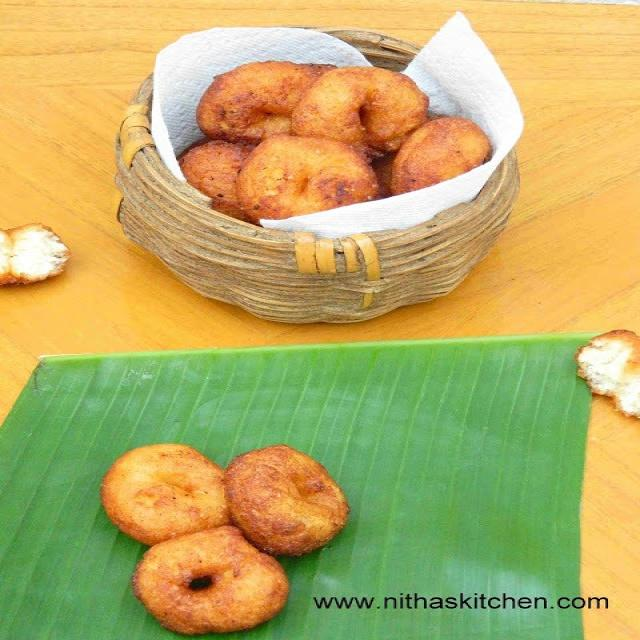medu vadai: (155, 44, 501, 252), (79, 426, 345, 640)
